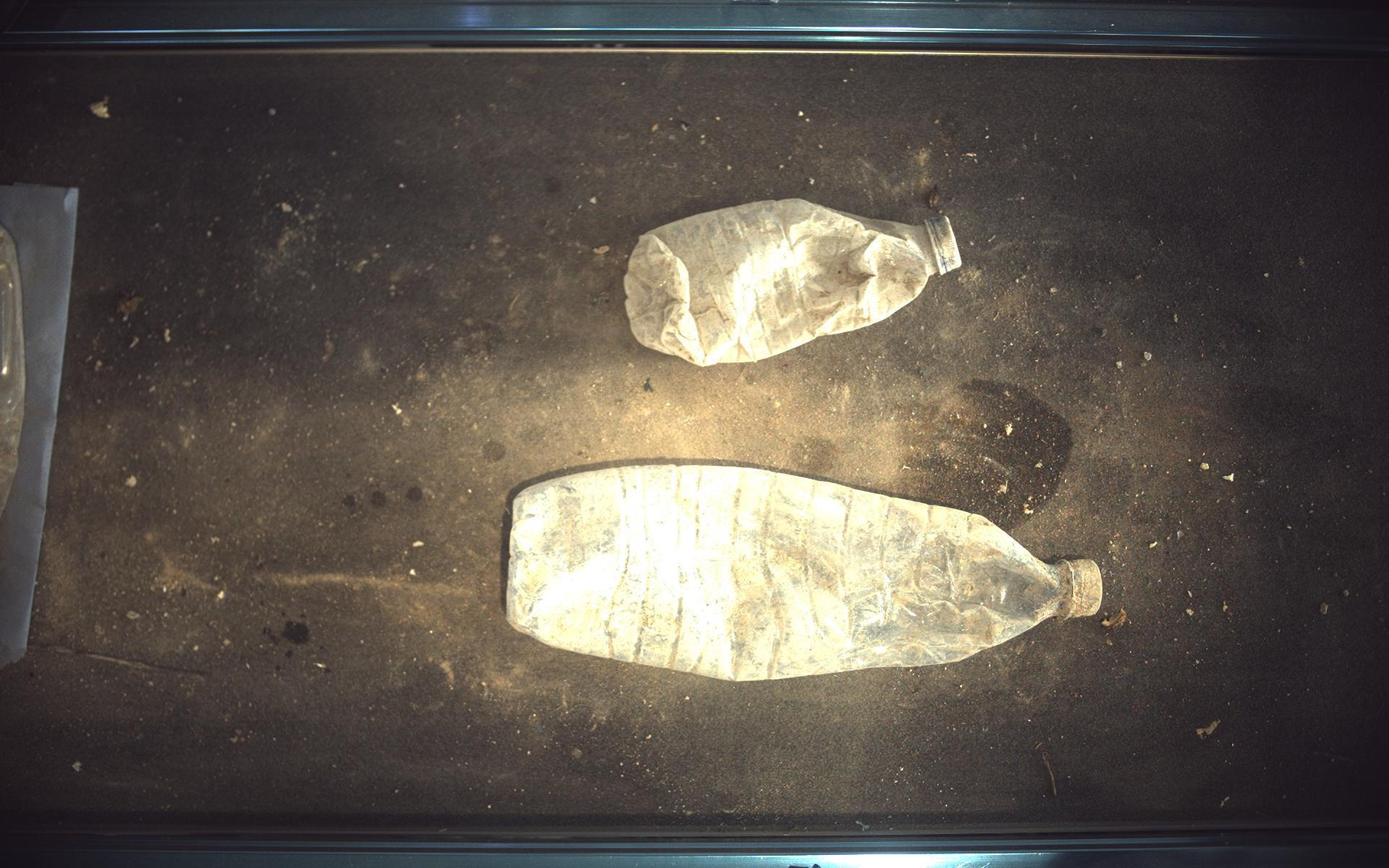general_w: (506, 464, 1105, 681), (625, 198, 964, 365)
